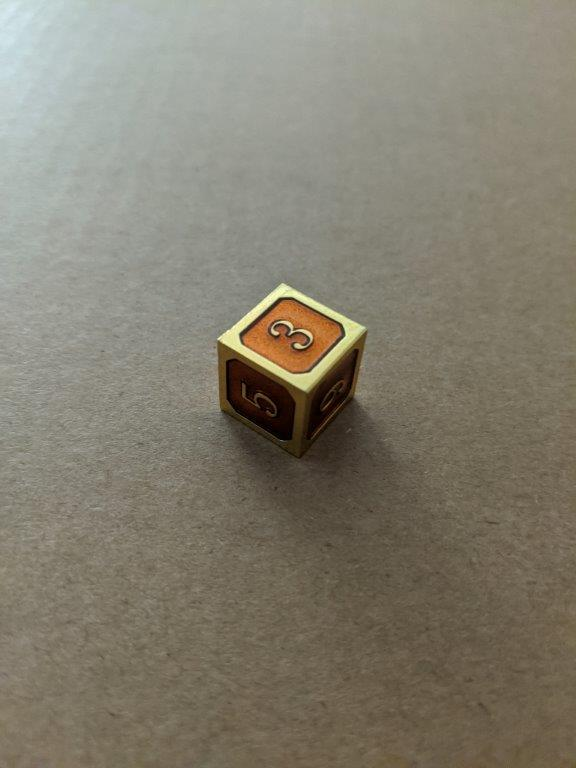d6-3: (216, 281, 367, 461)
